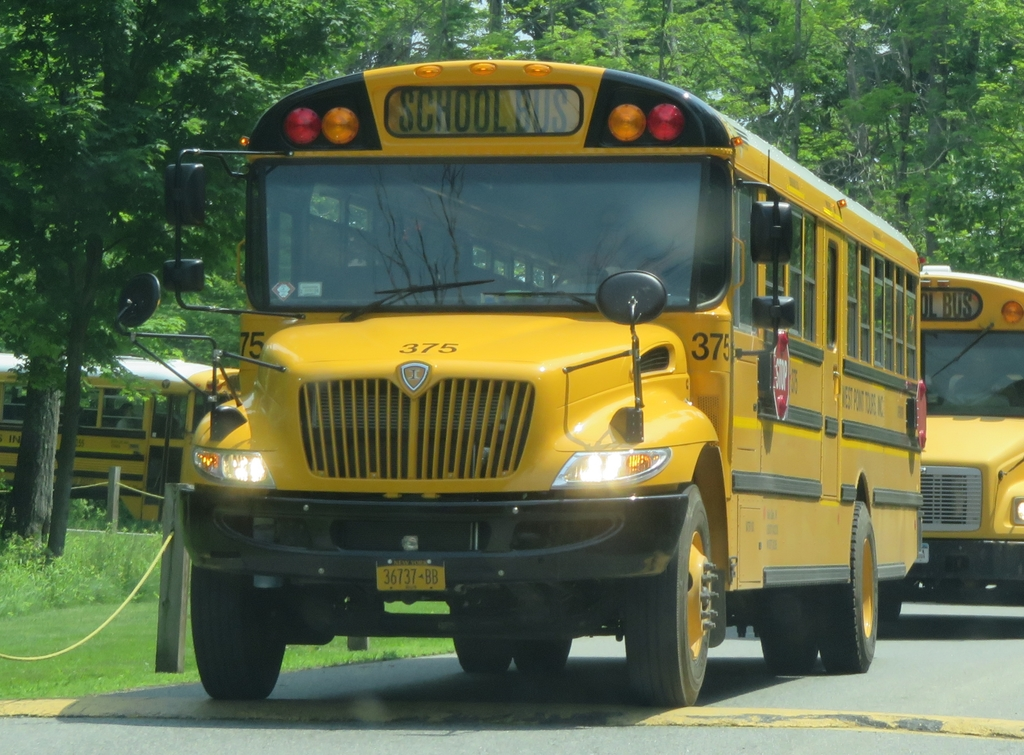Bus: (115, 60, 923, 702), (0, 351, 245, 520), (912, 257, 1023, 600)
